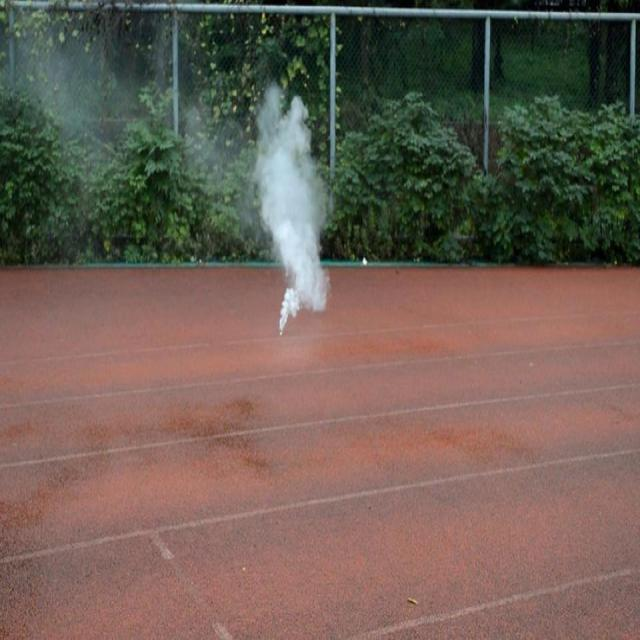Smoke: (252, 79, 334, 338)
